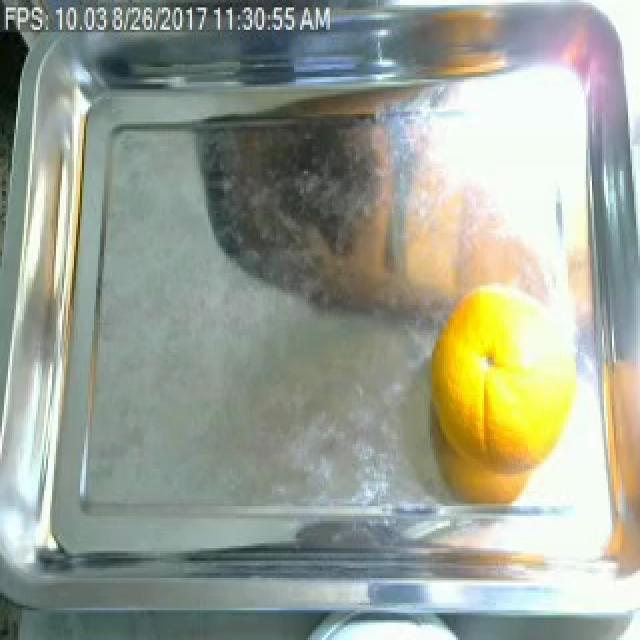Fruit: (422, 278, 586, 513), (594, 347, 640, 536)
